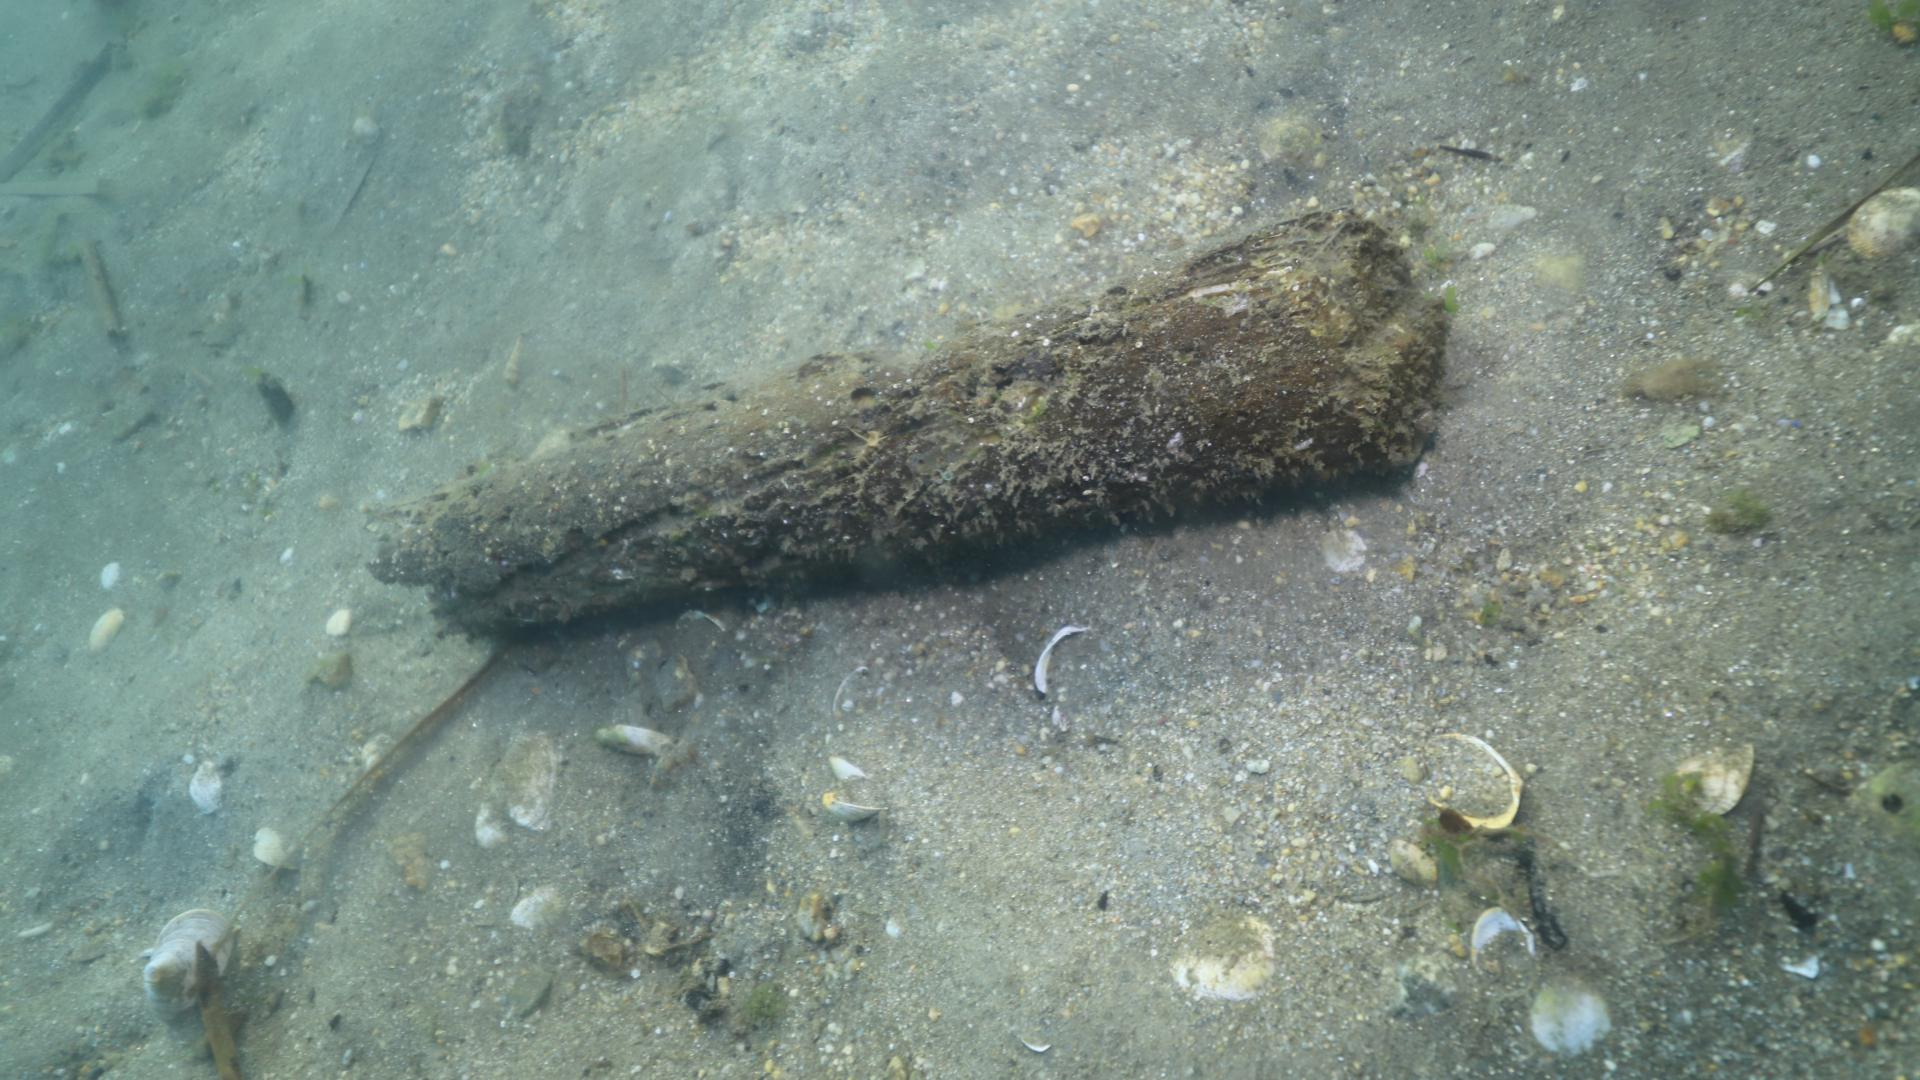wood: (364, 207, 1445, 636)
